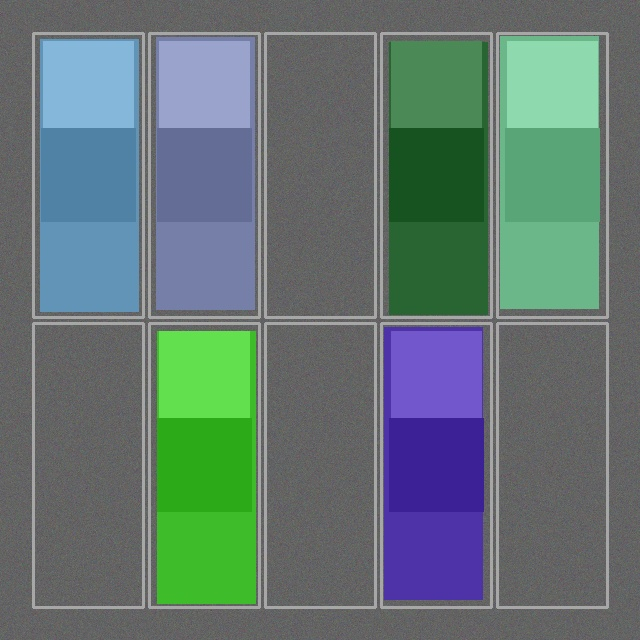space-empty: (267, 35, 373, 315), (35, 325, 141, 605), (267, 325, 373, 605), (499, 325, 605, 605)
space-occupied: (35, 35, 141, 315), (151, 35, 257, 315), (383, 35, 489, 315), (499, 35, 605, 315), (151, 325, 257, 605), (383, 325, 489, 605)
